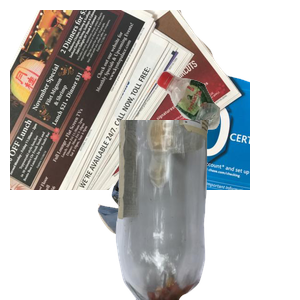glass: (113, 120, 300, 300)
paper: (10, 10, 250, 190)
plastic: (153, 68, 300, 190)
trash: (95, 157, 282, 300)
